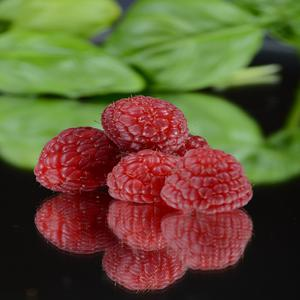raspb: (20, 87, 272, 294)
